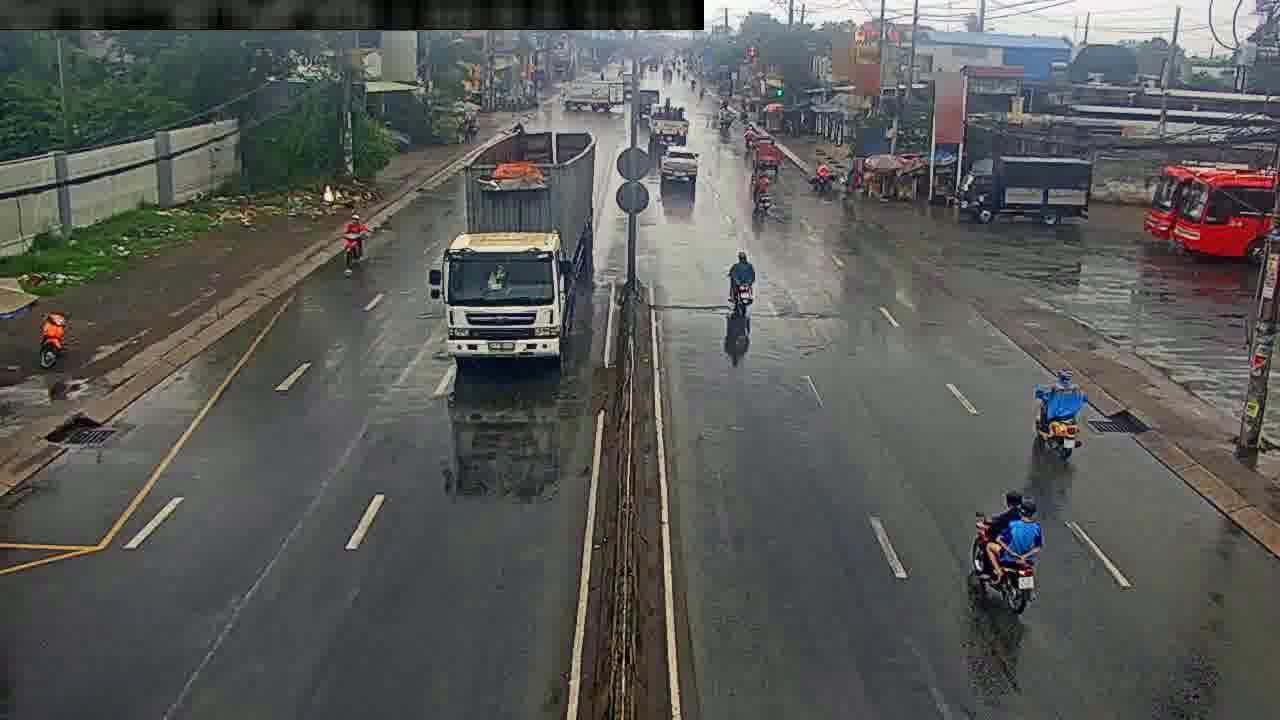8: (440, 128, 598, 353)
container: (656, 145, 700, 180)
motorbike: (983, 478, 1043, 610), (1041, 375, 1082, 470), (727, 248, 758, 318), (38, 306, 68, 369), (341, 211, 365, 271), (752, 168, 771, 212)
